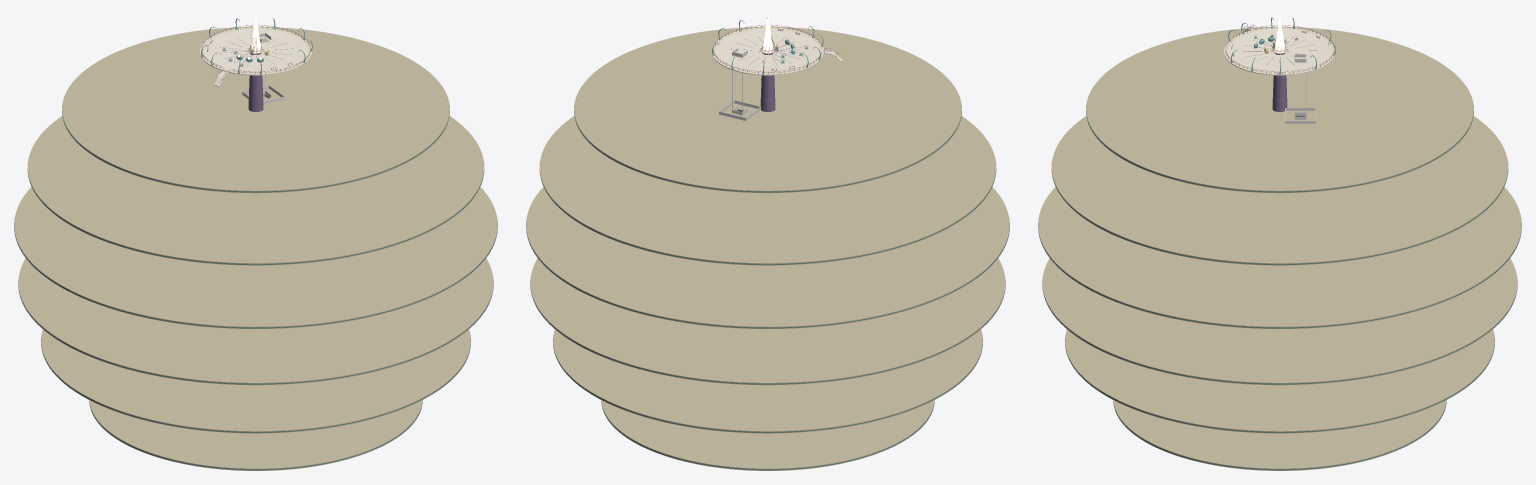
The model's file is ship.glb.
3 views of the same model, side by side, from view 1: azimuth 30°, elevation 25°; view 2: azimuth 150°, elevation 25°; view 3: azimuth 270°, elevation 25° (orthographic).
Parts seen in each view (by area): view 1: Deck 01 top 57m, Deck 02 top 32m, Deck 03 top 7m, Deck 04 top -18m, Deck 05 top -43m, Deck 06 top -68m, Deck 04 edge, Deck 03 edge, Deck 02 edge, deck_floor_fill, Deck 05 edge, Deck 01 edge (+1 smaller); view 2: Deck 01 top 57m, Deck 02 top 32m, Deck 03 top 7m, Deck 04 top -18m, Deck 05 top -43m, Deck 06 top -68m, Deck 04 edge, Deck 03 edge, Deck 02 edge, deck_floor_fill, Deck 05 edge, Deck 01 edge (+1 smaller); view 3: Deck 01 top 57m, Deck 02 top 32m, Deck 03 top 7m, Deck 04 top -18m, Deck 05 top -43m, Deck 06 top -68m, Deck 03 edge, Deck 04 edge, deck_floor_fill, Deck 02 edge, Deck 05 edge, Deck 01 edge (+1 smaller).
Boxes of the visible parts, x1=… form: Deck 01 top 57m: x1=62, y1=27, x2=449, y2=193; Deck 02 top 32m: x1=27, y1=96, x2=484, y2=265; Deck 03 top 7m: x1=14, y1=187, x2=497, y2=328; Deck 04 top -18m: x1=18, y1=258, x2=493, y2=385; Deck 05 top -43m: x1=41, y1=329, x2=470, y2=433; Deck 06 top -68m: x1=89, y1=400, x2=422, y2=470; Deck 04 edge: x1=18, y1=279, x2=493, y2=384; Deck 03 edge: x1=14, y1=217, x2=497, y2=328; Deck 02 edge: x1=27, y1=163, x2=484, y2=264; deck_floor_fill: x1=199, y1=27, x2=311, y2=74; Deck 05 edge: x1=41, y1=335, x2=470, y2=432; Deck 01 edge: x1=62, y1=95, x2=449, y2=192; Deck 01 top 57m: x1=574, y1=27, x2=961, y2=193; Deck 02 top 32m: x1=539, y1=116, x2=996, y2=265; Deck 03 top 7m: x1=526, y1=187, x2=1009, y2=328; Deck 04 top -18m: x1=530, y1=258, x2=1005, y2=385; Deck 05 top -43m: x1=553, y1=329, x2=982, y2=433; Deck 06 top -68m: x1=601, y1=400, x2=934, y2=470; Deck 04 edge: x1=530, y1=279, x2=1005, y2=384; Deck 03 edge: x1=526, y1=217, x2=1009, y2=328; Deck 02 edge: x1=539, y1=163, x2=996, y2=264; deck_floor_fill: x1=711, y1=27, x2=823, y2=74; Deck 05 edge: x1=553, y1=335, x2=982, y2=432; Deck 01 edge: x1=574, y1=103, x2=961, y2=192; Deck 01 top 57m: x1=1086, y1=27, x2=1473, y2=193; Deck 02 top 32m: x1=1051, y1=116, x2=1508, y2=265; Deck 03 top 7m: x1=1038, y1=187, x2=1521, y2=328; Deck 04 top -18m: x1=1042, y1=258, x2=1517, y2=385; Deck 05 top -43m: x1=1065, y1=329, x2=1494, y2=433; Deck 06 top -68m: x1=1113, y1=400, x2=1446, y2=470; Deck 03 edge: x1=1038, y1=223, x2=1521, y2=328; Deck 04 edge: x1=1042, y1=279, x2=1517, y2=384; deck_floor_fill: x1=1223, y1=27, x2=1336, y2=74; Deck 02 edge: x1=1051, y1=163, x2=1508, y2=264; Deck 05 edge: x1=1065, y1=338, x2=1494, y2=432; Deck 01 edge: x1=1086, y1=105, x2=1473, y2=192.
Bounding box in the file's own units: 189 × 178 × 189.
